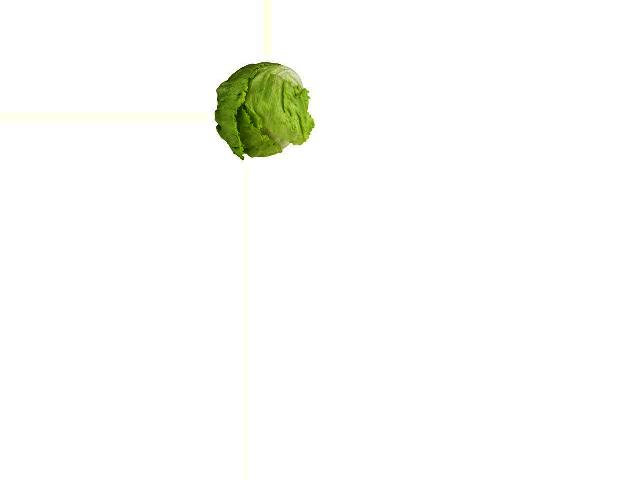lettuce: (215, 59, 310, 158)
